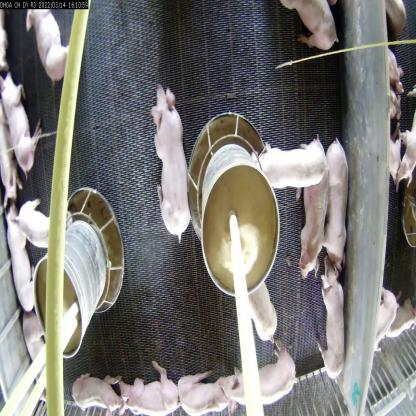Pig: (147, 76, 196, 248), (219, 344, 301, 416), (0, 67, 48, 180), (312, 259, 354, 388), (289, 154, 330, 281), (321, 132, 353, 292), (9, 189, 82, 255), (236, 266, 288, 349), (2, 200, 38, 317), (250, 139, 326, 194), (109, 359, 182, 415), (24, 7, 77, 84), (173, 364, 239, 416), (280, 0, 343, 54), (20, 315, 56, 405), (0, 103, 26, 213), (69, 364, 124, 416), (369, 279, 401, 367), (396, 103, 416, 199)
